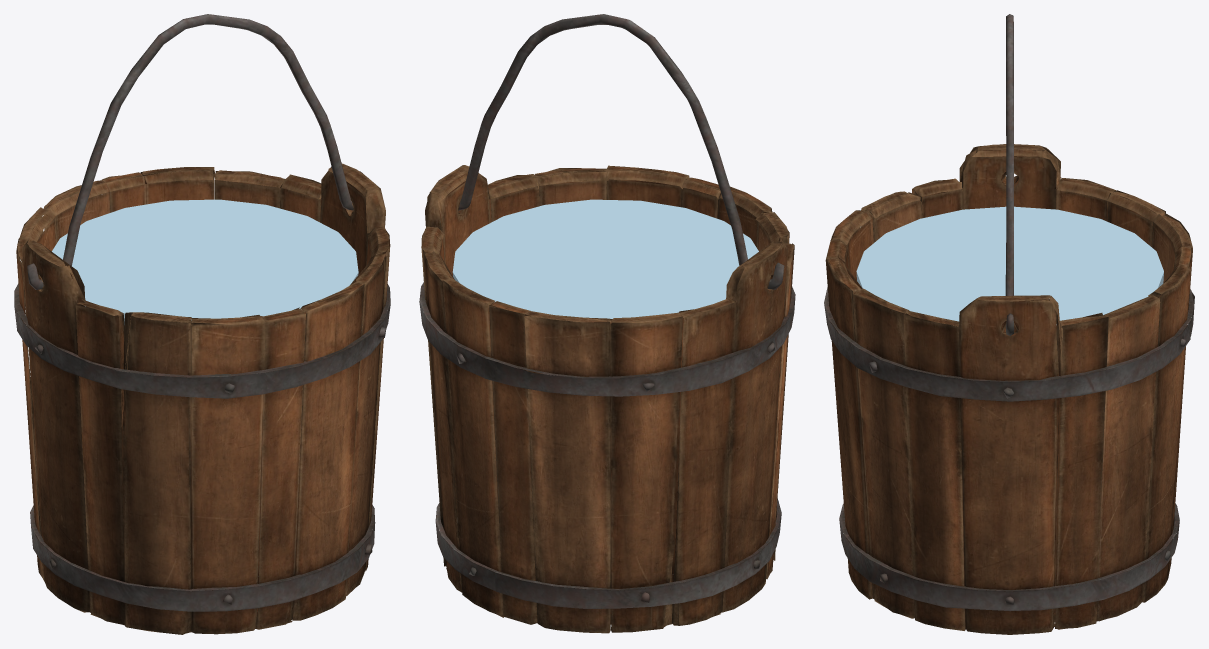
The model's file is bucket.glb.
The picture shows the model from 3 angles, left to right: view 1: azimuth 30°, elevation 25°; view 2: azimuth 150°, elevation 25°; view 3: azimuth 270°, elevation 25°; orthographic projection.
Parts seen in each view (by area): view 1: Bucket, Water; view 2: Bucket, Water; view 3: Bucket, Water.
Boxes of the visible parts, <box> form: Bucket: <box>14,14,390,634</box>; Water: <box>52,199,358,324</box>; Bucket: <box>419,14,795,633</box>; Water: <box>452,199,758,318</box>; Bucket: <box>824,14,1194,634</box>; Water: <box>856,206,1163,324</box>.
Bounding box in the file's own units: 0.2755 × 0.4138 × 0.2563.
Materials: 2 (1 with a texture image).
